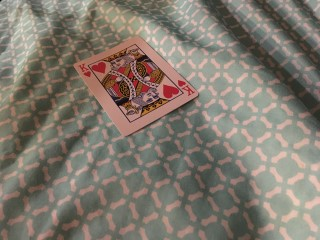KingOfHearts: (72, 35, 199, 136)
